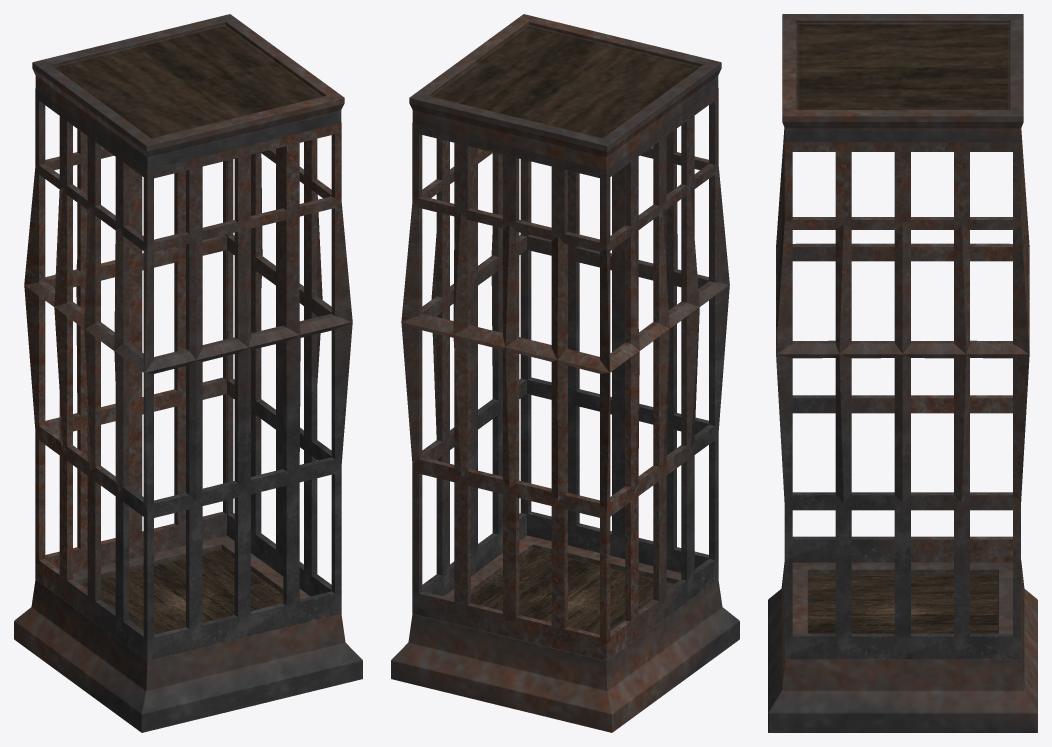
Rendered from dungeon_cage.glb.
3 views of the same model, side by side, from view 1: azimuth 30°, elevation 25°; view 2: azimuth 150°, elevation 25°; view 3: azimuth 270°, elevation 25° (orthographic). The views are drawn at different scales.
Visible parts, largest first — view 1: Cube.001_0, Cube.003_1, Cube.004_2; view 2: Cube.001_0, Cube.003_1, Cube.004_2; view 3: Cube.001_0, Cube.003_1, Cube.004_2.
Boxes of the visible parts, bbox=[...] form: Cube.001_0: bbox=[24, 88, 352, 660]; Cube.003_1: bbox=[14, 535, 362, 732]; Cube.004_2: bbox=[32, 14, 344, 169]; Cube.001_0: bbox=[401, 88, 729, 660]; Cube.003_1: bbox=[391, 535, 739, 732]; Cube.004_2: bbox=[409, 14, 721, 169]; Cube.001_0: bbox=[776, 128, 1029, 659]; Cube.003_1: bbox=[768, 560, 1037, 732]; Cube.004_2: bbox=[782, 14, 1023, 141].
Size of the model in its own units: 2.28 by 5.7 by 2.28.
Materials: 1 (1 with a texture image).
